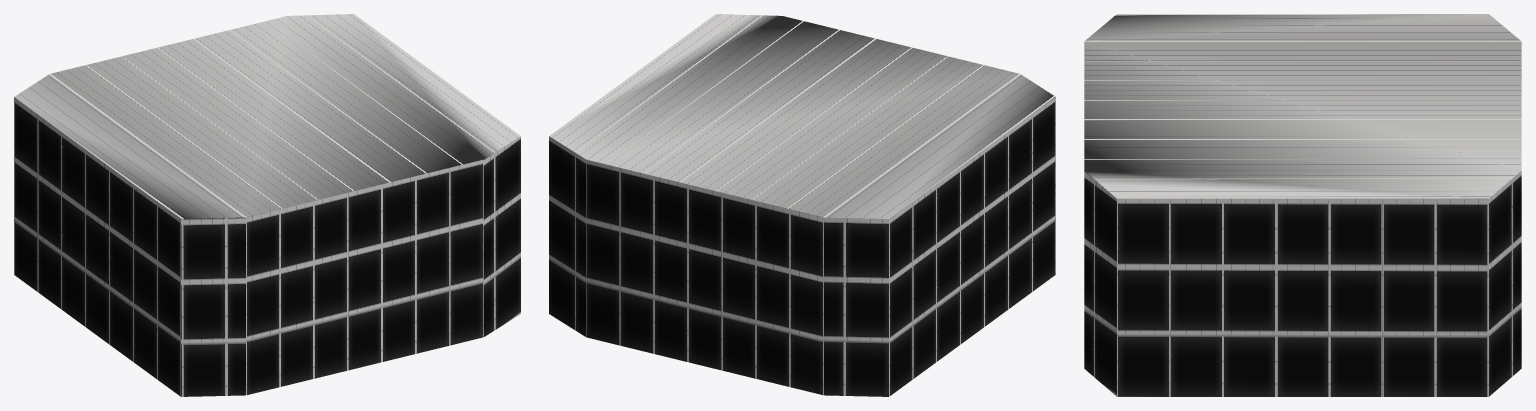
3 views of the same model, side by side, from view 1: azimuth 30°, elevation 25°; view 2: azimuth 150°, elevation 25°; view 3: azimuth 270°, elevation 25° (orthographic). The views are drawn at different scales.
Visible parts, largest first — view 1: mqo_mesh.001; view 2: mqo_mesh.001; view 3: mqo_mesh.001.
Boxes of the visible parts, <box> form: mqo_mesh.001: <box>14,14,520,396</box>; mqo_mesh.001: <box>549,14,1055,396</box>; mqo_mesh.001: <box>1084,14,1521,396</box>.
Size of the model in its own units: 5000 by 2500 by 5000.
